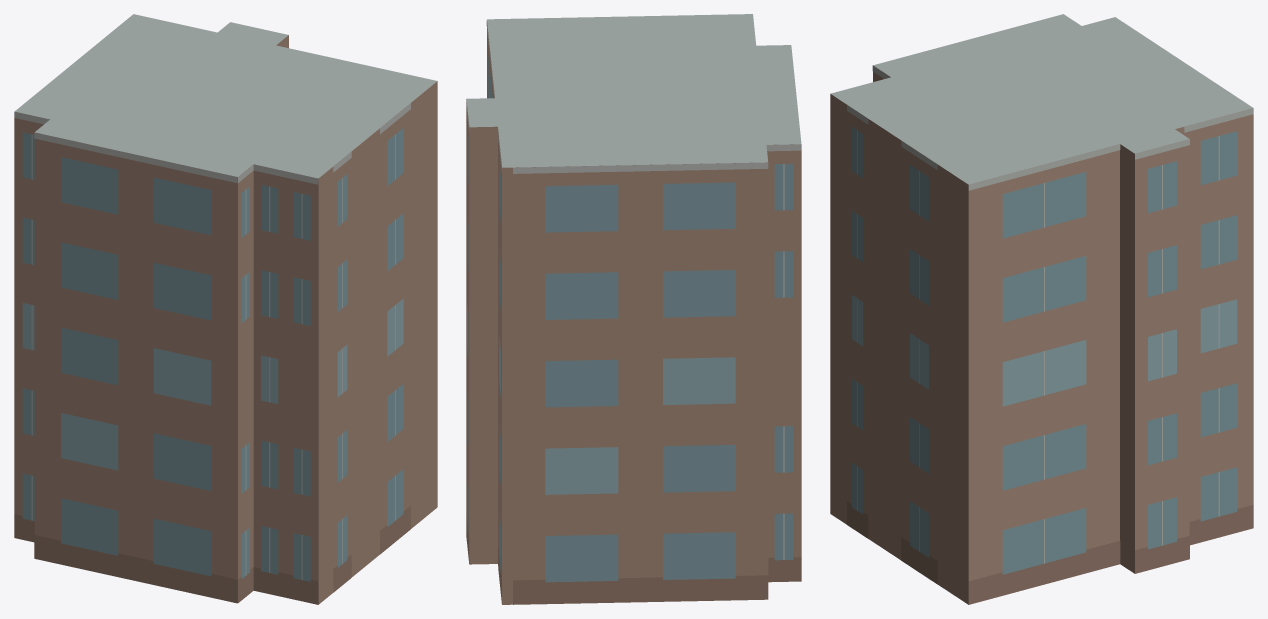
The model's file is survey-upis-32849067.glb.
3 renders of one model, left to right at view 1: azimuth 30°, elevation 25°; view 2: azimuth 150°, elevation 25°; view 3: azimuth 270°, elevation 25°, orthographic. The views are drawn at different scales.
Parts seen in each view (by area): view 1: survey-upis-32849067.tmp; view 2: survey-upis-32849067.tmp; view 3: survey-upis-32849067.tmp.
Boxes of the visible parts, <box> form: survey-upis-32849067.tmp: <box>14,14,437,604</box>; survey-upis-32849067.tmp: <box>466,14,801,604</box>; survey-upis-32849067.tmp: <box>830,14,1253,604</box>.
Size of the model in its own units: 14.56 by 16.7 by 15.26.
